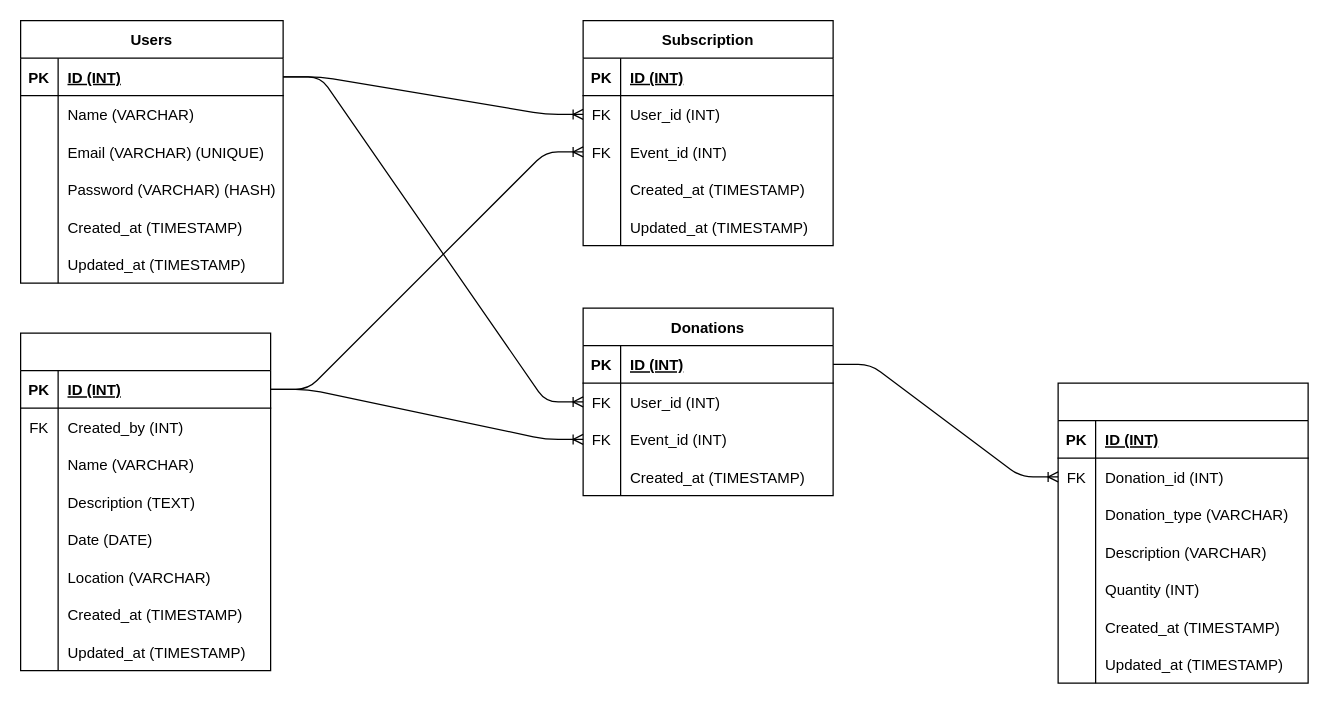
The diagram is 1329 pixels wide and 704 high, and some of its shapes have lost their labels. The shapes that lost their labels are listed below. From the top down, each one's box as (x1, y1, x2, y2) in pixels, then its label:
(19, 332, 271, 671): Events
(1057, 382, 1308, 683): Donations_Items
